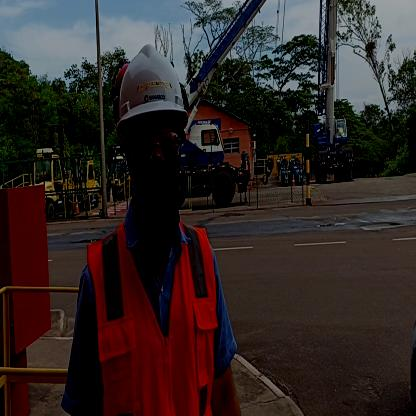Balaclava: (124, 124, 185, 252)
Capacete: (115, 41, 192, 115)
colete: (88, 235, 215, 416)
